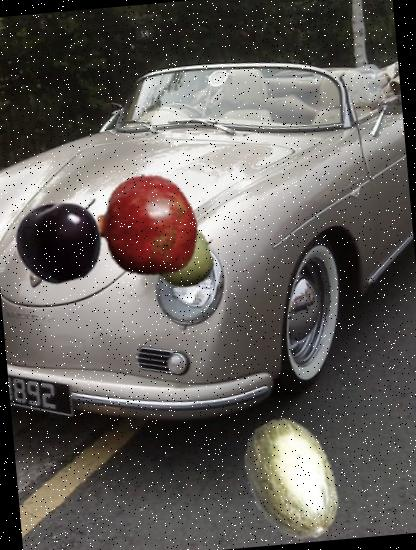Apple: (151, 222, 221, 292)
Cherry: (12, 196, 107, 290)
Melon: (224, 414, 358, 548)
Pomegranate: (91, 170, 204, 282)
